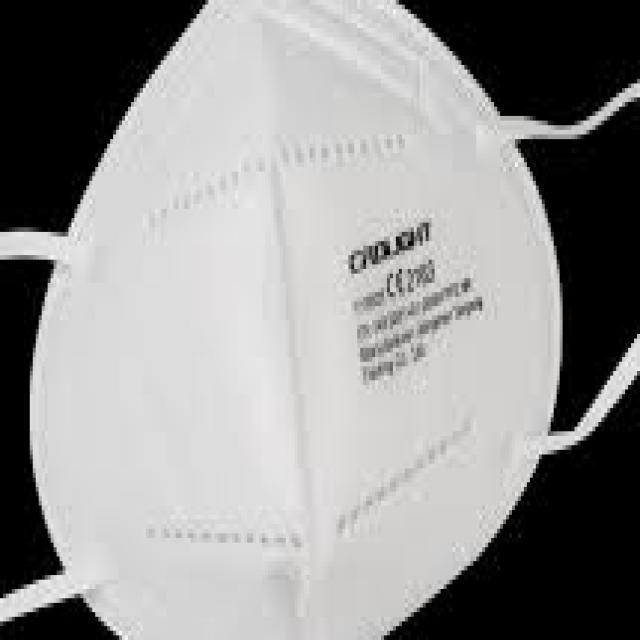organic: (46, 13, 563, 604)
